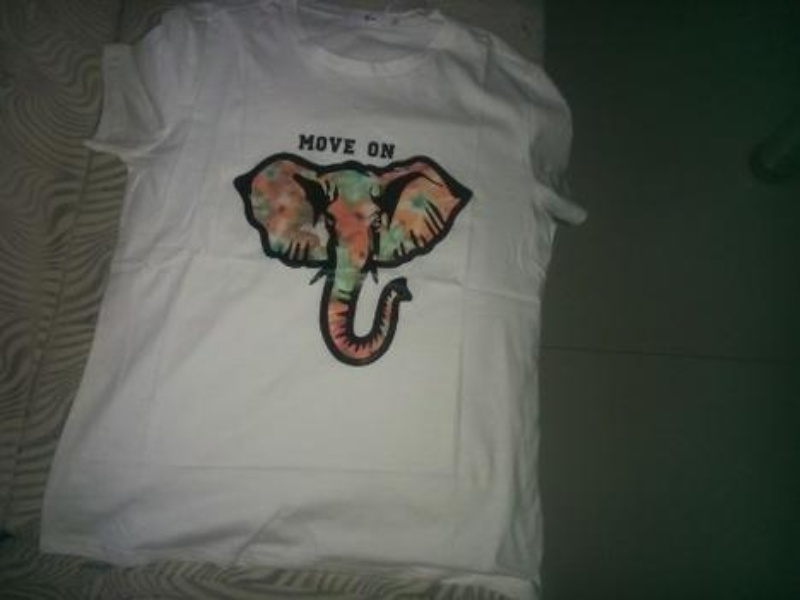short_sleeved_shirt: (32, 0, 595, 598)
